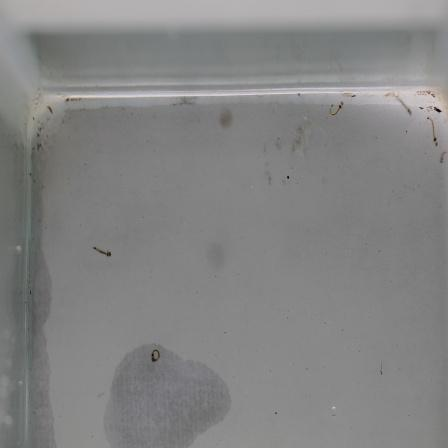Jentik-Nyamuk: (87, 238, 117, 265), (145, 344, 167, 367)
